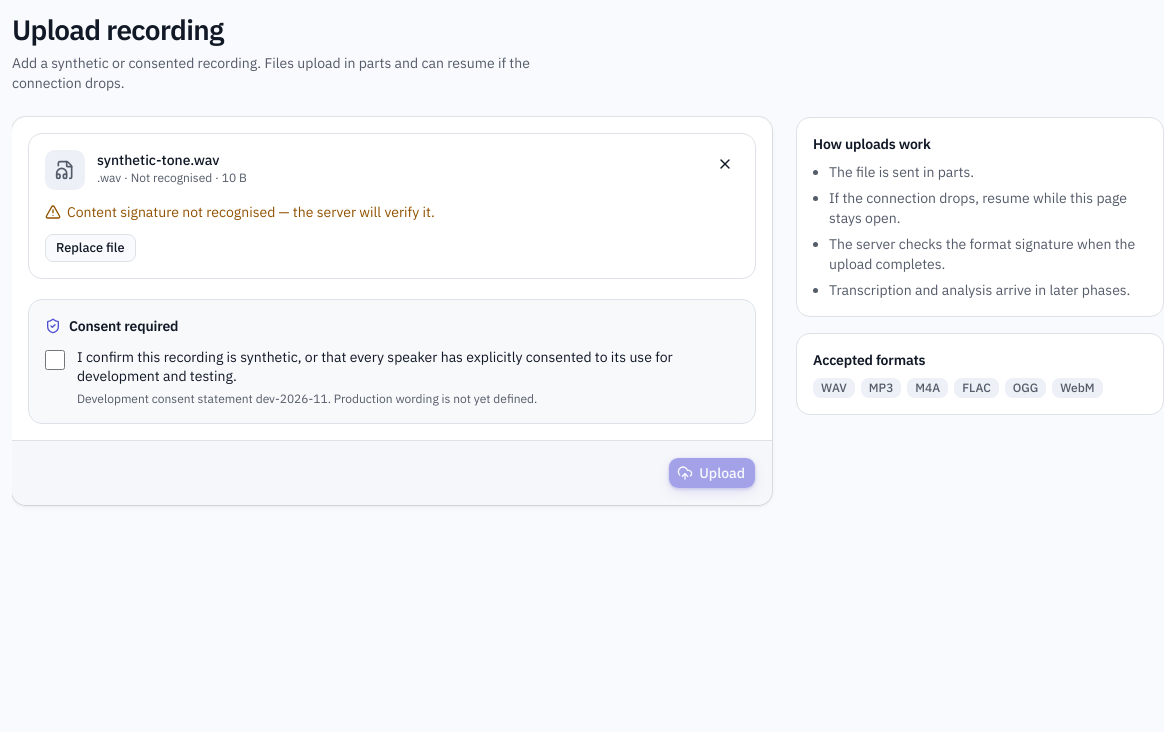
UploadPage › shows a friendly, fixed message when the server rejects the file
This screenshot has width=1164, height=732.
Earlier steps of the test are not shown.
Step 1. Click the checkbox → (55, 360), box [45,350,65,370]
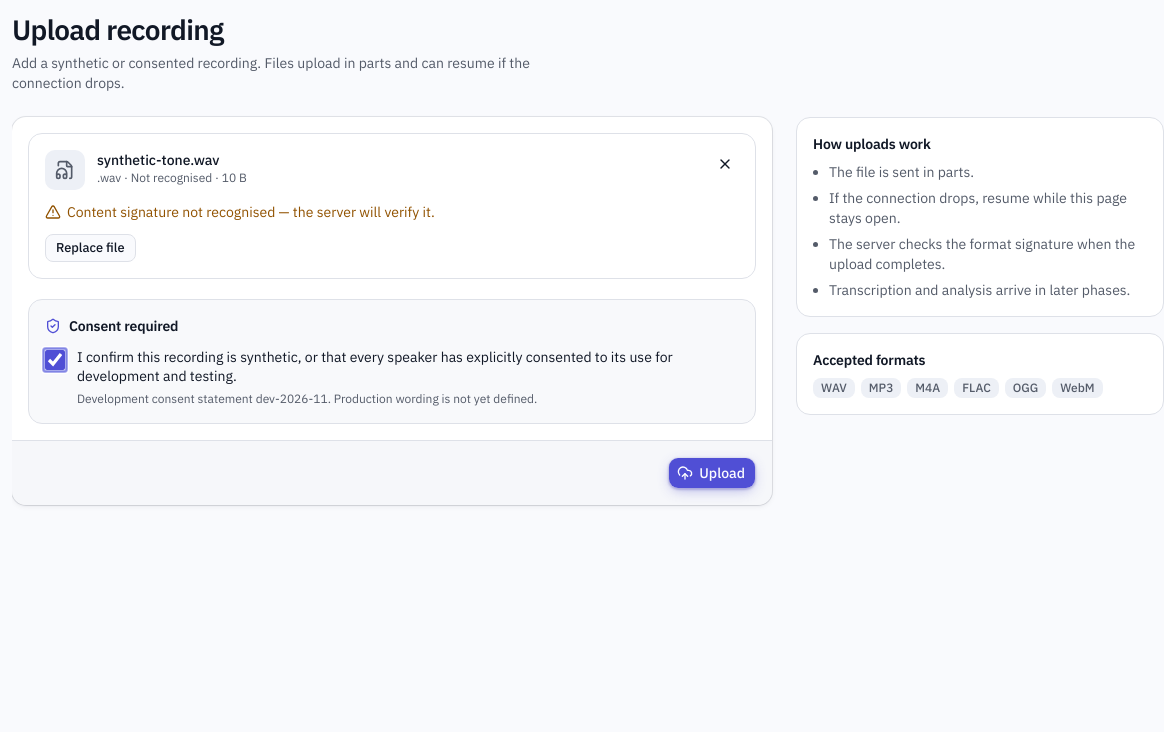
Step 2. Click the button "Upload" → (712, 472), box [668,456,756,488]
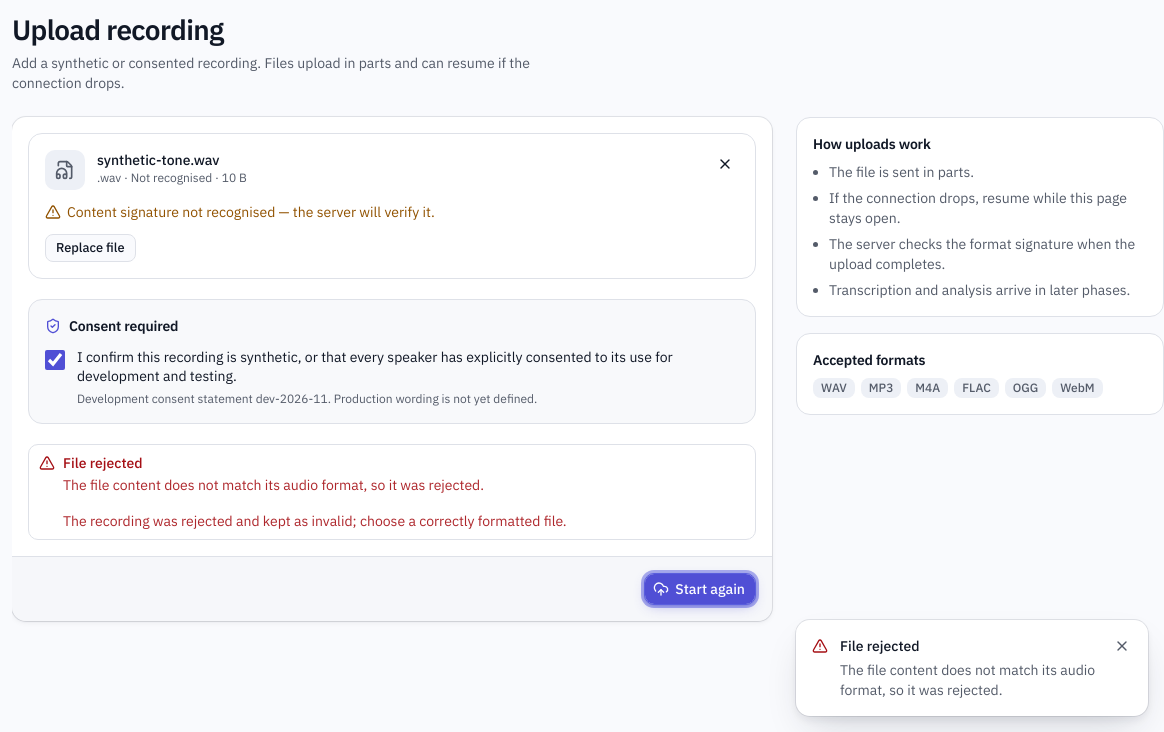
Now the text "does not match its audio format" below "Development consent statement" is shown, box [63,476,484,494]
